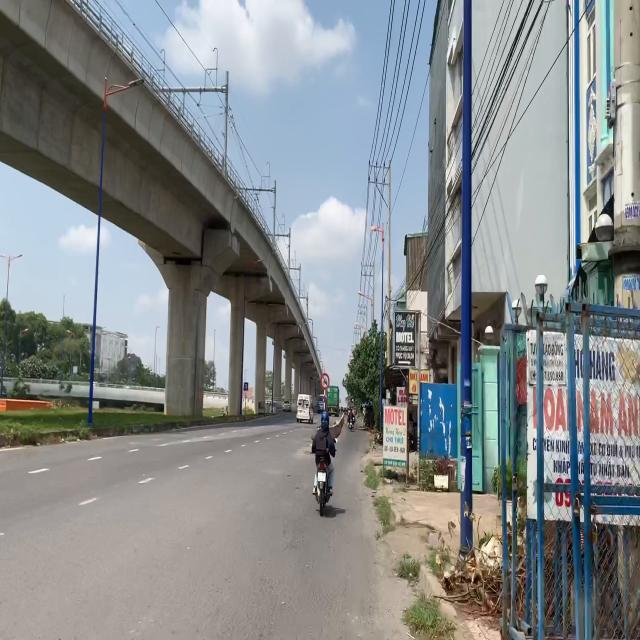Cam con lai: (320, 372, 330, 390)
Hieu lenh: (244, 382, 248, 392)
